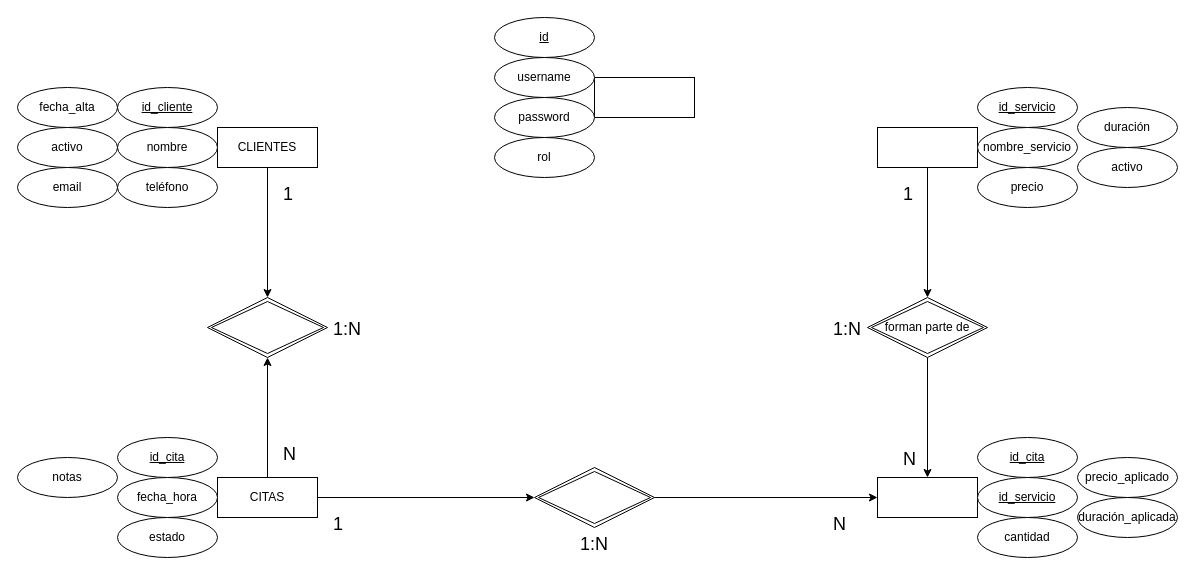
The diagram is 1195 pixels wide and 578 high, and some of its shapes have lost their labels. The shapes that lost their labels are listed below. From the top down, each one's box as (x1, y1, x2, y2) in pixels, then its label:
(594, 76, 694, 118): USUARIOS
(876, 126, 978, 168): SERVICIOS
(206, 296, 328, 358): Reserva
(534, 466, 654, 528): Contiene
(876, 476, 978, 518): CITA_SERVICIO
